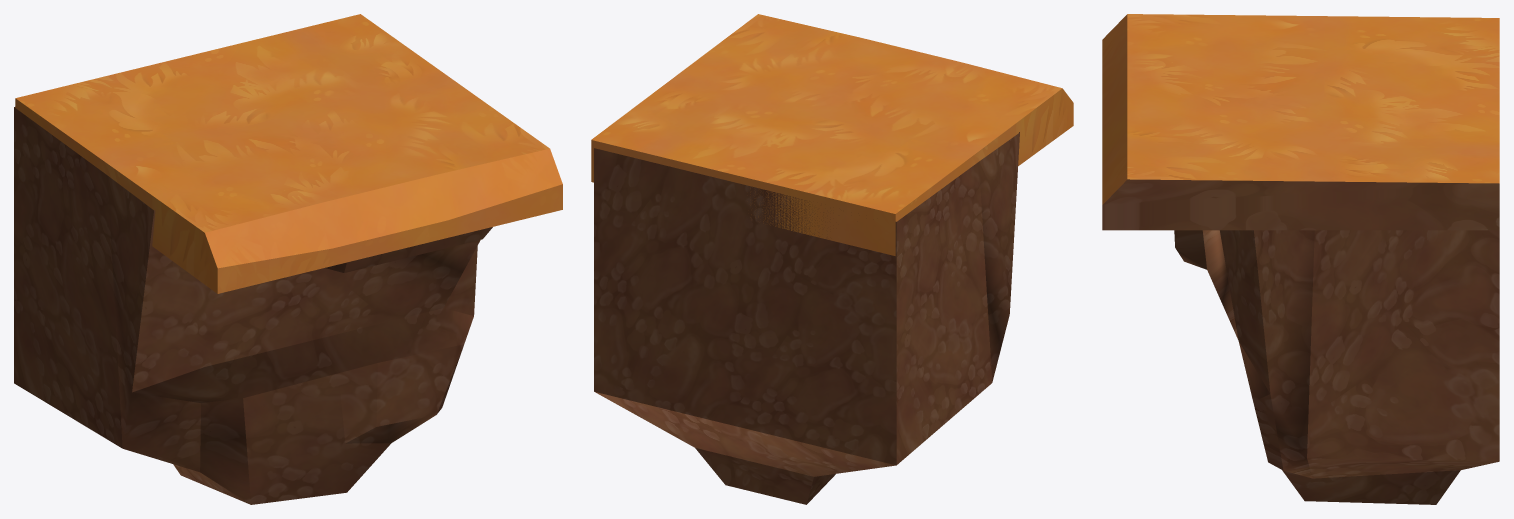
File: Ground 1.FBX
The picture shows the model from 3 angles, left to right: view 1: azimuth 30°, elevation 25°; view 2: azimuth 150°, elevation 25°; view 3: azimuth 270°, elevation 25°; orthographic projection. The views are drawn at different scales.
Parts seen in each view (by area): view 1: Box091; view 2: Box091; view 3: Box091.
Boxes of the visible parts, box(x1,y1,x2,y2) form: Box091: box(14, 14, 562, 504); Box091: box(591, 14, 1073, 504); Box091: box(1102, 14, 1499, 504).
Bounding box in the file's own units: 39.6 × 42.13 × 39.45.
